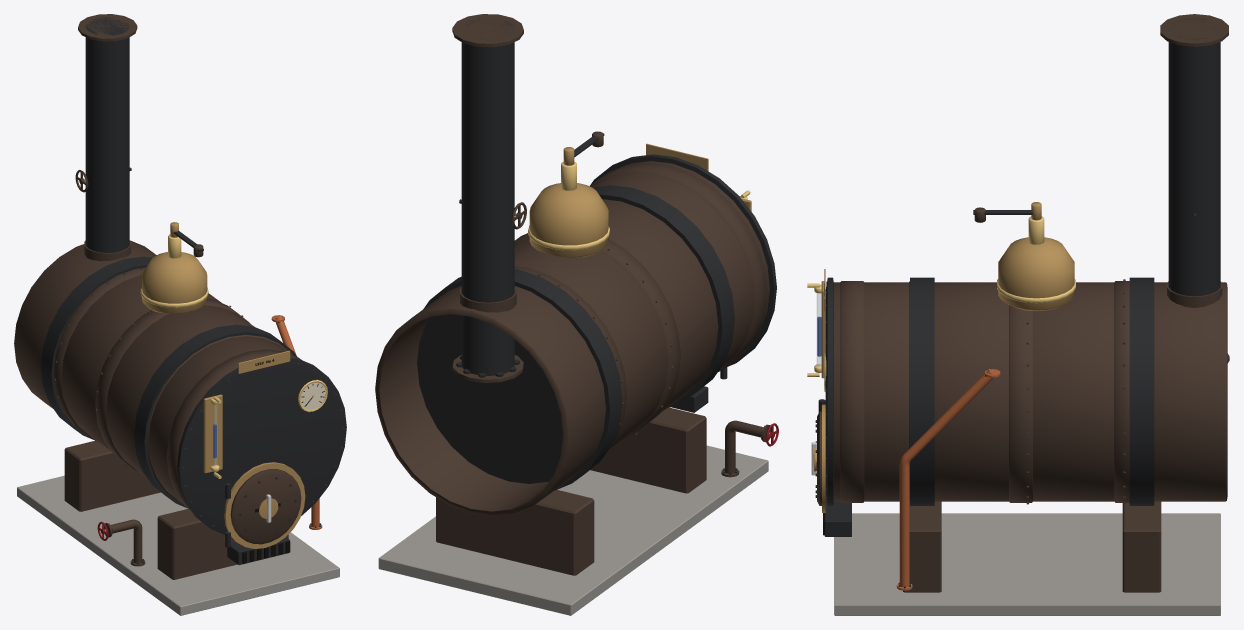
Rendered from boiler.glb.
The picture shows the model from 3 angles, left to right: view 1: azimuth 30°, elevation 25°; view 2: azimuth 150°, elevation 25°; view 3: azimuth 270°, elevation 25°; orthographic projection. The views are drawn at different scales.
Visible parts, largest first — view 1: boiler_body, IA_fire_door; view 2: boiler_body; view 3: boiler_body, IA_fire_door.
Part boxes in pixels (box(x1,y1,x2,y2)): boiler_body: box(14, 14, 346, 615); IA_fire_door: box(230, 469, 301, 544); boiler_body: box(375, 14, 778, 615); boiler_body: box(807, 14, 1229, 615); IA_fire_door: box(811, 411, 821, 505).
Size of the model in its own units: 1.64 by 3.4 by 2.4.
